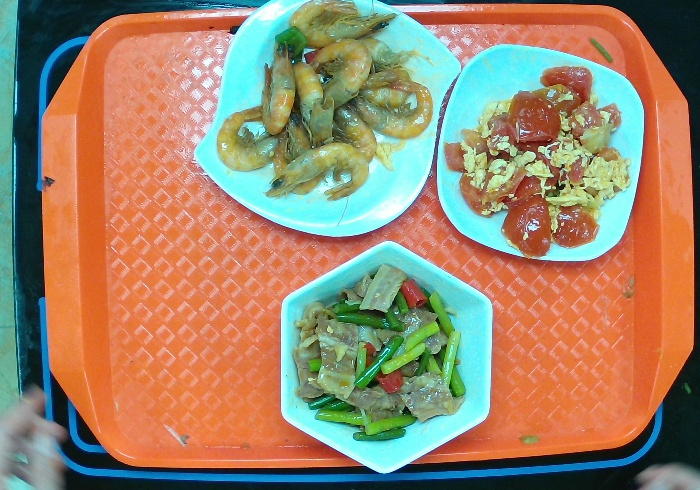RJxy-Liu_Jiao_Wan: (266, 234, 497, 476)
RJxy-Shuang_Jiao_Pan: (185, 1, 469, 242)
RJxy-Si_Fang_Wan: (425, 38, 649, 265)
